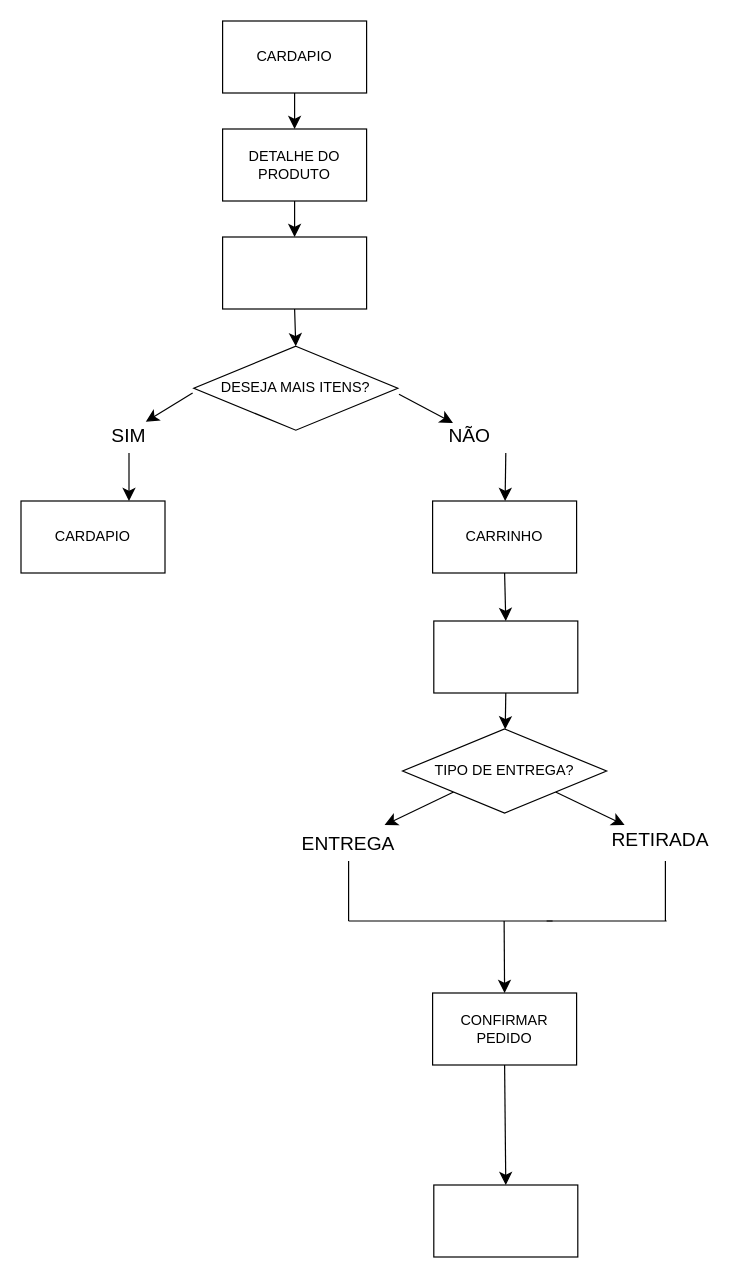
Some shapes in this 730 by 1278 pixel diagram are drawn without their labels. The shapes that lost their labels are listed below. From the top down, each one's box as (x1, y1, x2, y2) in pixels, then its label:
(221, 236, 367, 309): ADICIONAR AO CARRINHO
(433, 620, 578, 693): CHECKOUT
(433, 1184, 578, 1257): PEDIDO CONFIRMADO
